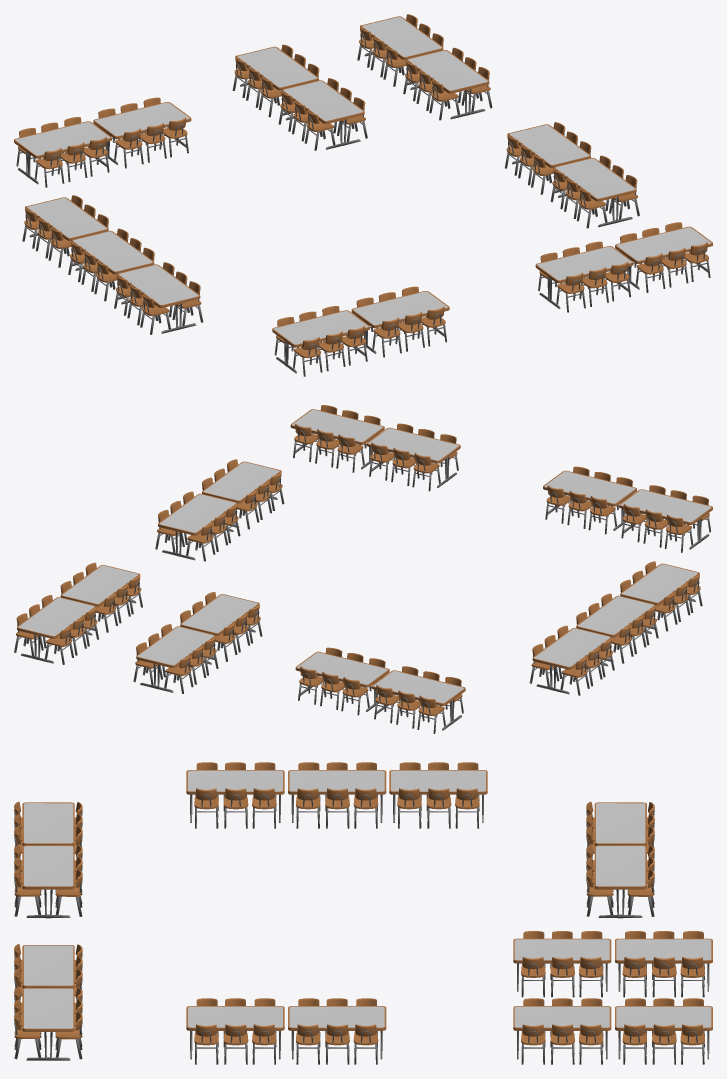
Rendered from d-roomcomp-r6-mensa-in.glb.
The picture shows the model from 3 angles, top to bottom: view 1: azimuth 30°, elevation 25°; view 2: azimuth 150°, elevation 25°; view 3: azimuth 270°, elevation 25°; orthographic projection. The views are drawn at different scales.
Visible parts, largest first — view 1: beegTable.006, beegTable.004, beegTable.008, beegTable.013, beegTable.003, beegTable.001, beegTable.011, beegTable.009, beegTable.005, beegTable.007, beegTable, beegTable.010 (+3 smaller); view 2: beegTable.006, beegTable.008, beegTable.004, beegTable.010, beegTable, beegTable.002, beegTable.014, beegTable.007, beegTable.005, beegTable.009, beegTable.001, beegTable.003 (+3 smaller); view 3: beegTable.010, beegTable.012, beegTable.001, beegTable.011, beegTable, beegTable.013, beegTable.014, beegTable.003, beegTable.002, beegTable.009, beegTable.005, beegTable.007 (+3 smaller).
Boxes of the visible parts, bbox=[...] form: beegTable.006: bbox=[272, 306, 369, 376]; beegTable.004: bbox=[14, 117, 111, 187]; beegTable.008: bbox=[535, 241, 633, 312]; beegTable.013: bbox=[114, 262, 203, 334]; beegTable.003: bbox=[278, 78, 367, 150]; beegTable.001: bbox=[403, 47, 492, 120]; beegTable.011: bbox=[550, 155, 639, 228]; beegTable.009: bbox=[615, 222, 712, 292]; beegTable.005: bbox=[93, 97, 191, 168]; beegTable.007: bbox=[351, 286, 449, 357]; beegTable: bbox=[357, 14, 443, 86]; beegTable.010: bbox=[504, 122, 591, 194]; beegTable.006: bbox=[619, 485, 712, 552]; beegTable.008: bbox=[366, 423, 460, 491]; beegTable.004: bbox=[371, 666, 465, 733]; beegTable.010: bbox=[155, 491, 240, 561]; beegTable: bbox=[14, 595, 98, 664]; beegTable.002: bbox=[133, 624, 218, 693]; beegTable.014: bbox=[529, 625, 614, 695]; beegTable.007: bbox=[543, 466, 636, 534]; beegTable.005: bbox=[295, 647, 389, 715]; beegTable.009: bbox=[290, 405, 384, 472]; beegTable.001: bbox=[60, 562, 142, 632]; beegTable.003: bbox=[180, 592, 262, 661]; beegTable.010: bbox=[288, 998, 386, 1064]; beegTable.012: bbox=[288, 762, 386, 828]; beegTable.001: bbox=[513, 998, 611, 1064]; beegTable.011: bbox=[186, 998, 284, 1064]; beegTable: bbox=[615, 998, 712, 1064]; beegTable.013: bbox=[186, 762, 284, 828]; beegTable.014: bbox=[389, 762, 487, 828]; beegTable.003: bbox=[513, 931, 611, 997]; beegTable.002: bbox=[615, 931, 712, 997]; beegTable.009: bbox=[14, 987, 82, 1060]; beegTable.005: bbox=[586, 844, 654, 918]; beegTable.007: bbox=[14, 844, 82, 918].
Bounding box in the file's own units: 15.59 × 1.07 × 17.36.
1 material, 1 textured.
